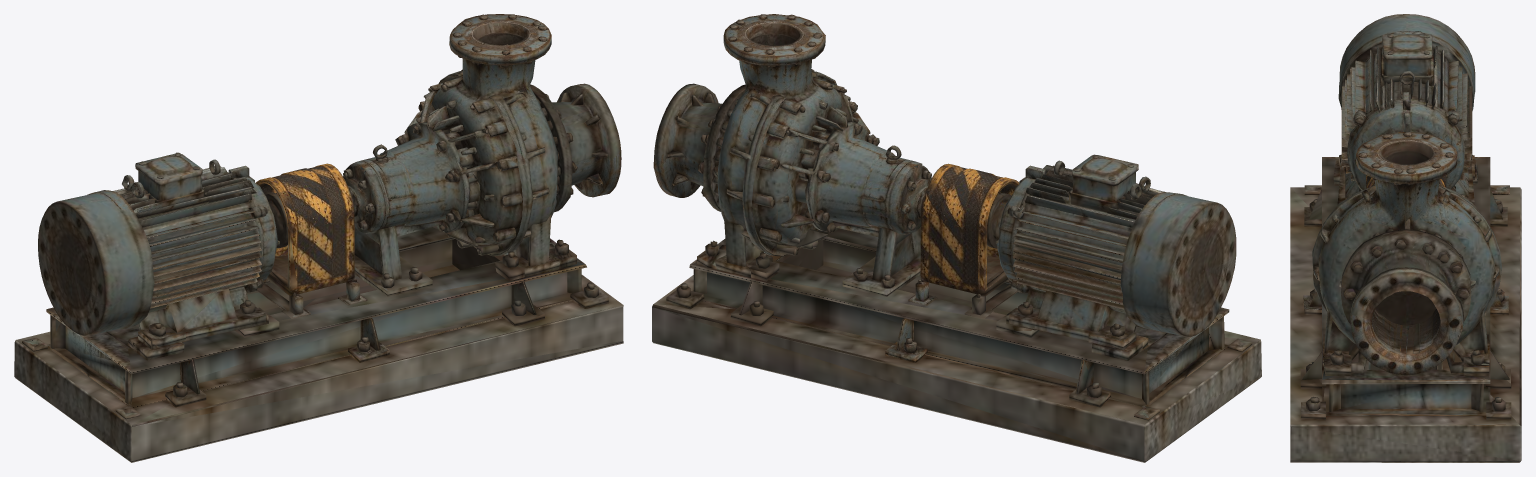
File: reactor-coolant-pump.glb
3 views of the same model, side by side, from view 1: azimuth 30°, elevation 25°; view 2: azimuth 150°, elevation 25°; view 3: azimuth 270°, elevation 25° (orthographic).
Parts seen in each view (by area): view 1: reactor-coolant-pump; view 2: reactor-coolant-pump; view 3: reactor-coolant-pump.
Part boxes in pixels (x1,y1,x2,y2): reactor-coolant-pump: (14, 14, 623, 462); reactor-coolant-pump: (652, 14, 1261, 462); reactor-coolant-pump: (1290, 14, 1521, 462).
Bounding box in the file's own units: 3.5 × 1.82 × 1.36.
Materials: 1 (1 with a texture image).
